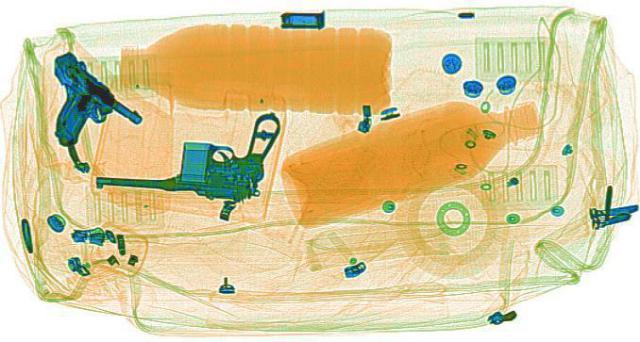Gun: (89, 95, 293, 201), (0, 57, 151, 140)
